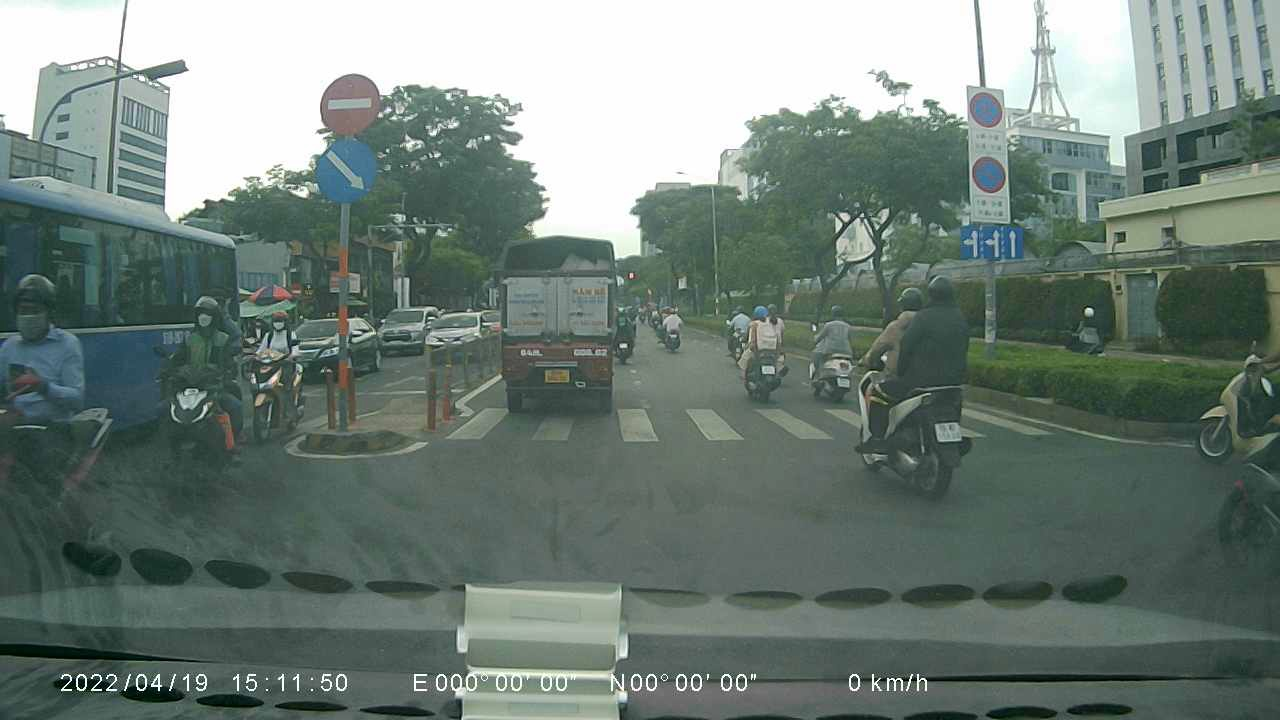Bien khac: (955, 222, 1026, 261), (964, 83, 1004, 129)
Cam di nguoc chieu: (318, 73, 382, 133)
Cam do xe: (972, 153, 1010, 192)
Huong di phai re phai: (313, 138, 376, 203)
